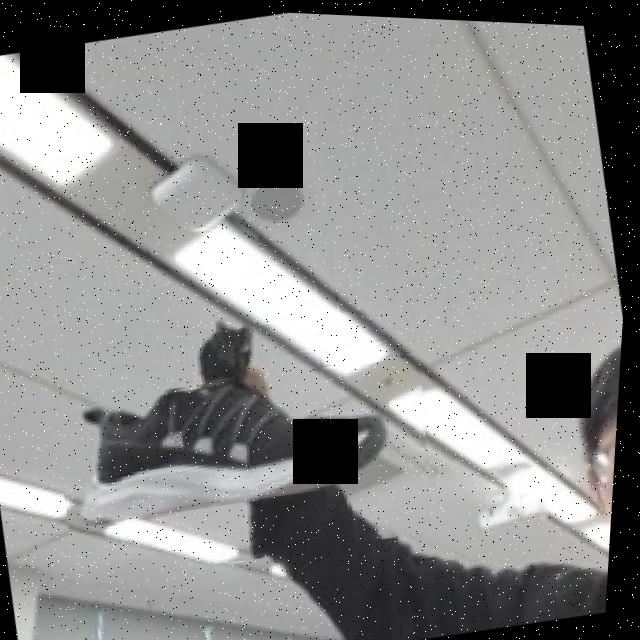shoe: (40, 285, 465, 599)
